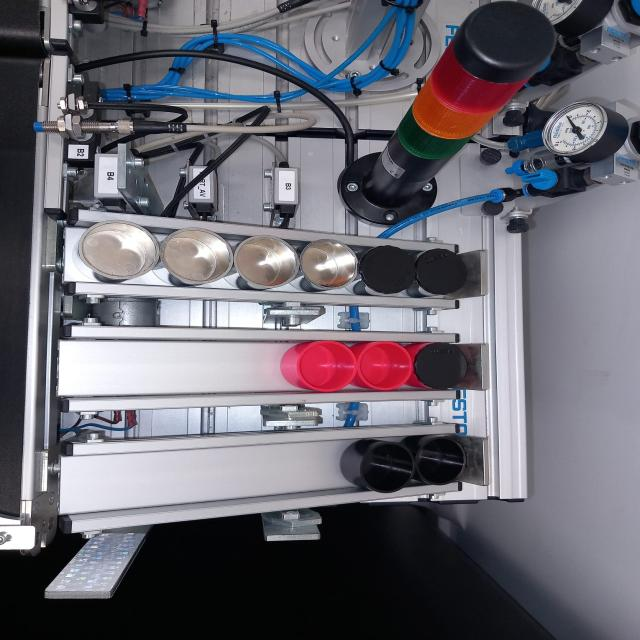NoLid: (72, 220, 160, 283), (161, 223, 234, 287), (280, 342, 356, 392), (236, 231, 298, 292), (344, 440, 417, 490), (300, 235, 358, 293), (350, 342, 415, 390), (411, 437, 468, 485)
Workpiece: (412, 245, 469, 297), (361, 244, 416, 295), (414, 342, 470, 390)
